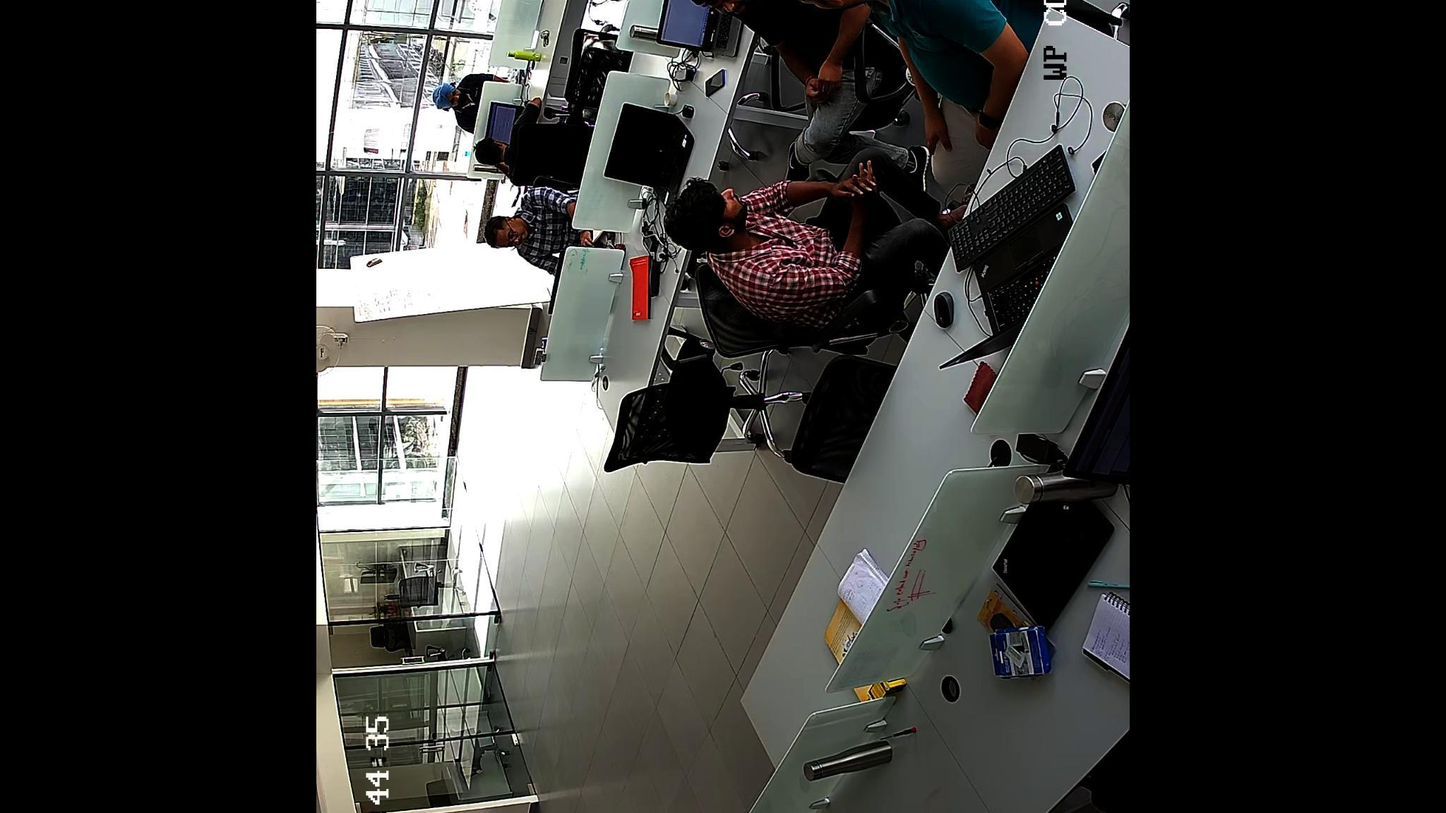gun: (453, 0, 488, 5)
